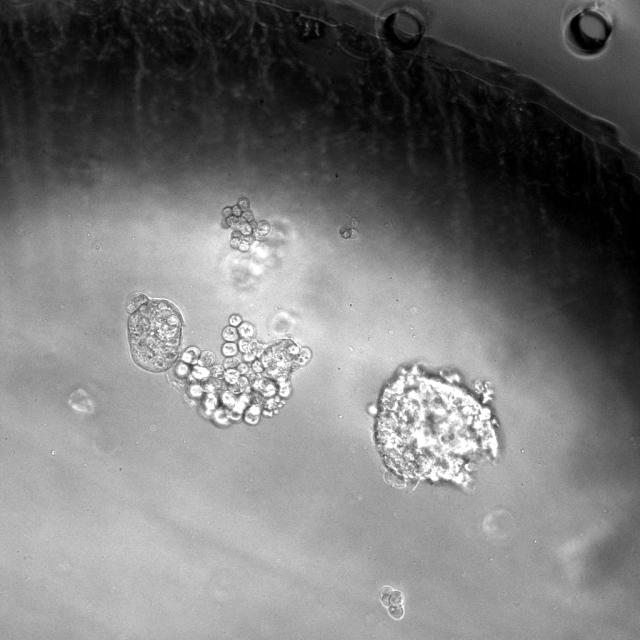organoid: (170, 314, 311, 426), (374, 363, 498, 490), (126, 292, 184, 372), (222, 197, 269, 252), (379, 586, 405, 619), (339, 218, 358, 239)
